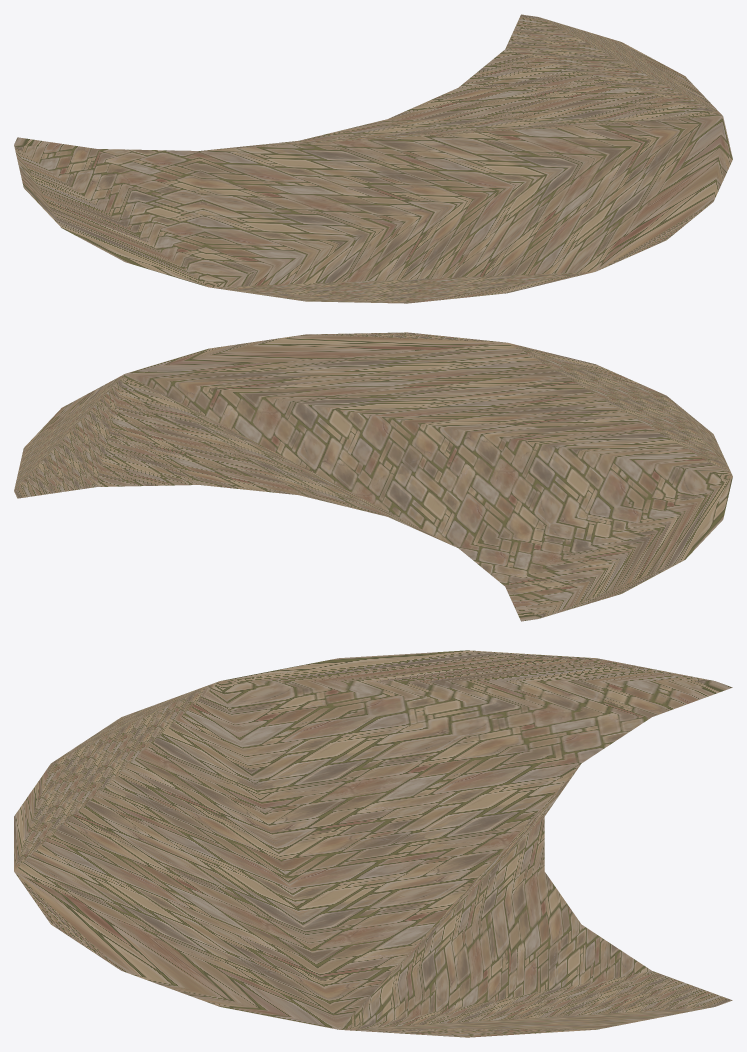
Rendered from BossFloor.FBX.
3 views of the same model, one above another, from view 1: azimuth 30°, elevation 25°; view 2: azimuth 150°, elevation 25°; view 3: azimuth 270°, elevation 25° (orthographic). The views are drawn at different scales.
Visible parts, largest first — view 1: Object002; view 2: Object002; view 3: Object002.
Boxes of the visible parts, bbox=[...] form: Object002: bbox=[14, 14, 732, 303]; Object002: bbox=[14, 332, 732, 621]; Object002: bbox=[14, 650, 732, 1037].
Bounding box in the file's own units: 3629 × 9.14e-06 × 2847.
